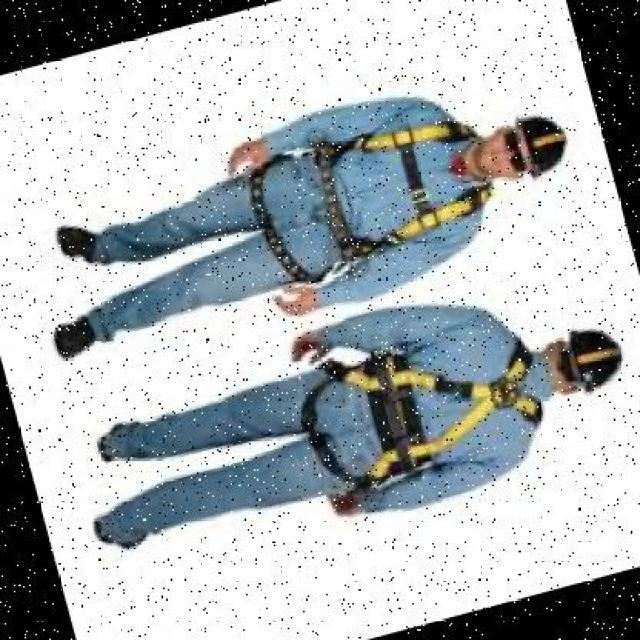Arnes_seguridad: (278, 303, 560, 503), (231, 96, 508, 298)
